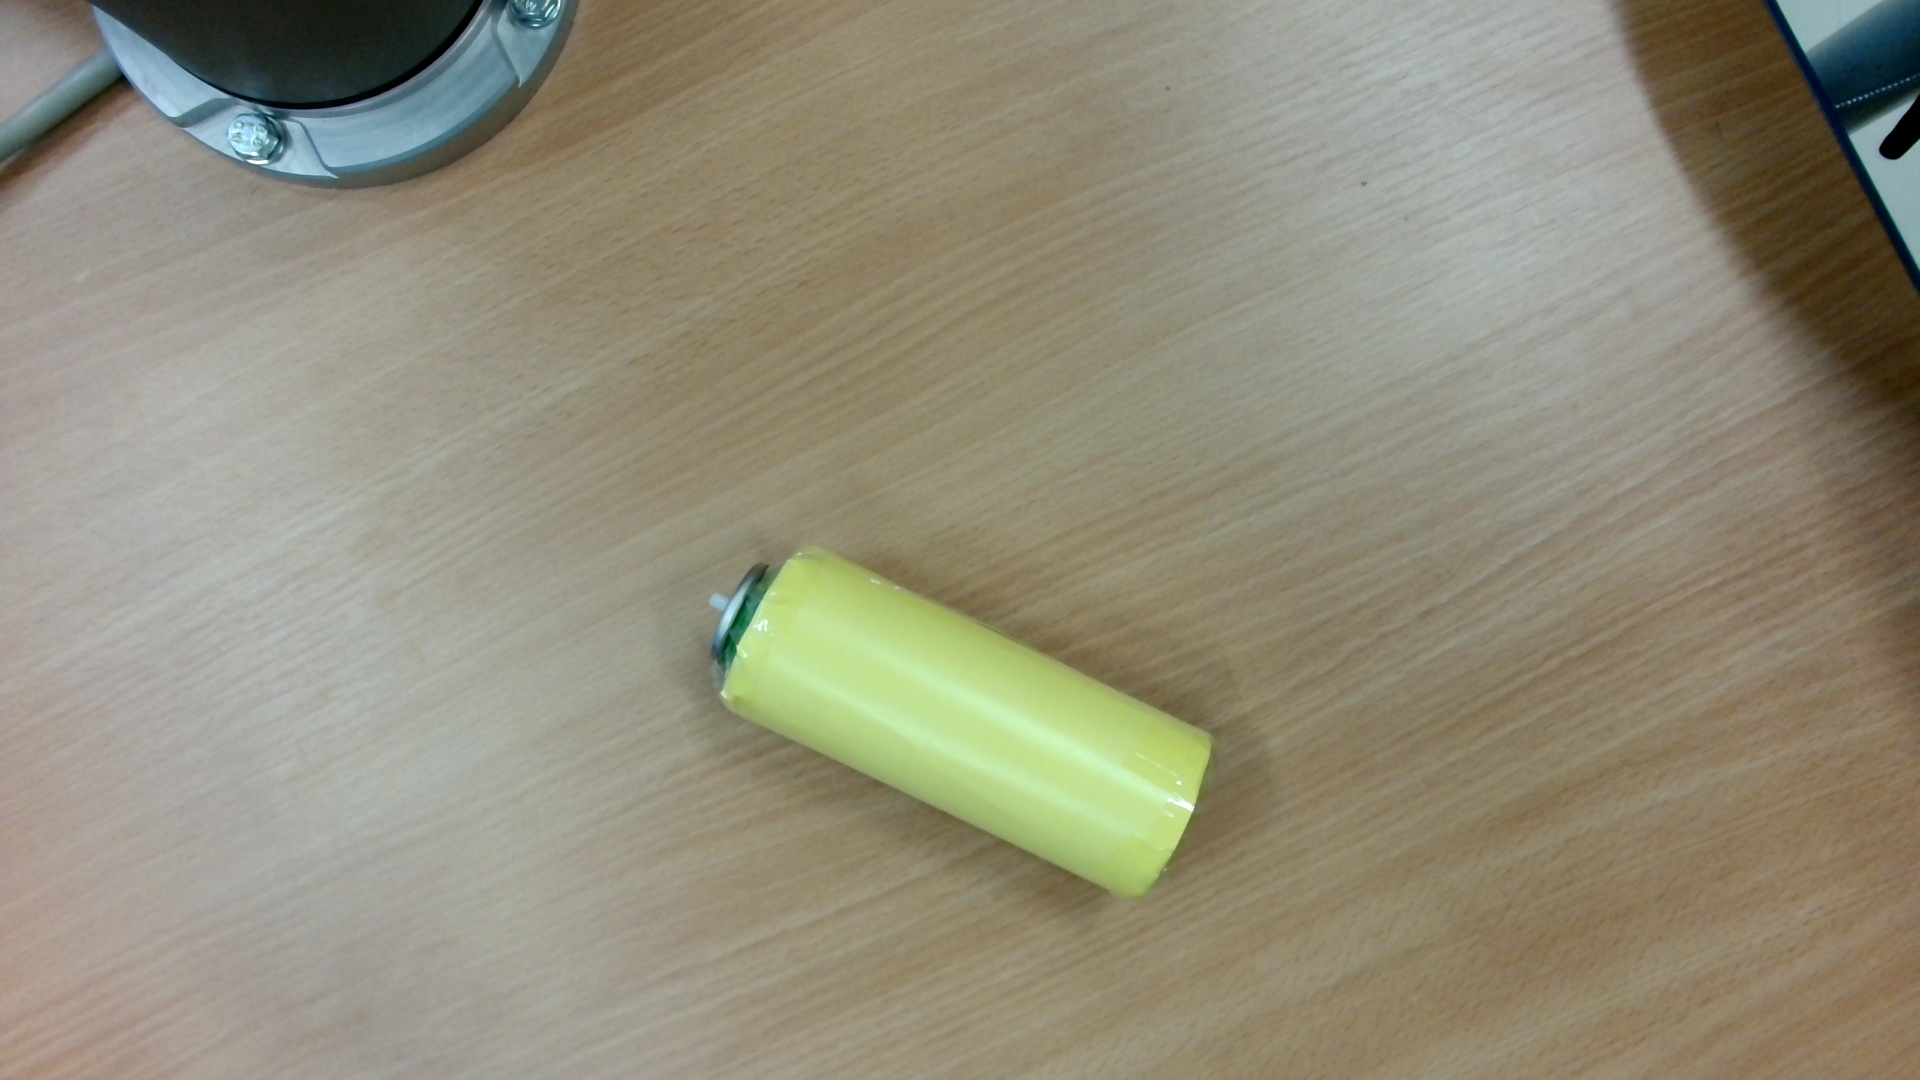Cylinder: (676, 535, 1225, 913)
